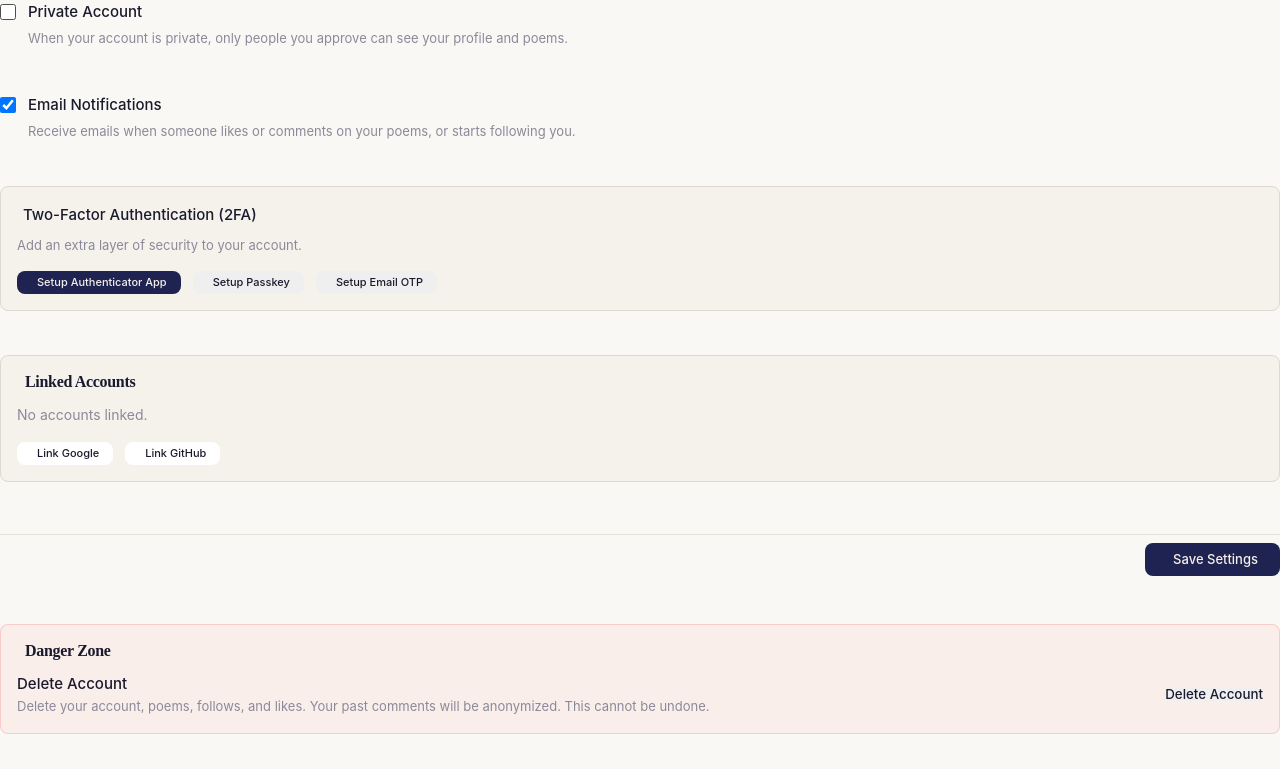
Test: AccountSettingsClient › shows error when deleteAccount fails
// Click Delete Account button to open modal
Click the button "Delete Account".
click(1214, 695)  # box [1165,688,1263,701]
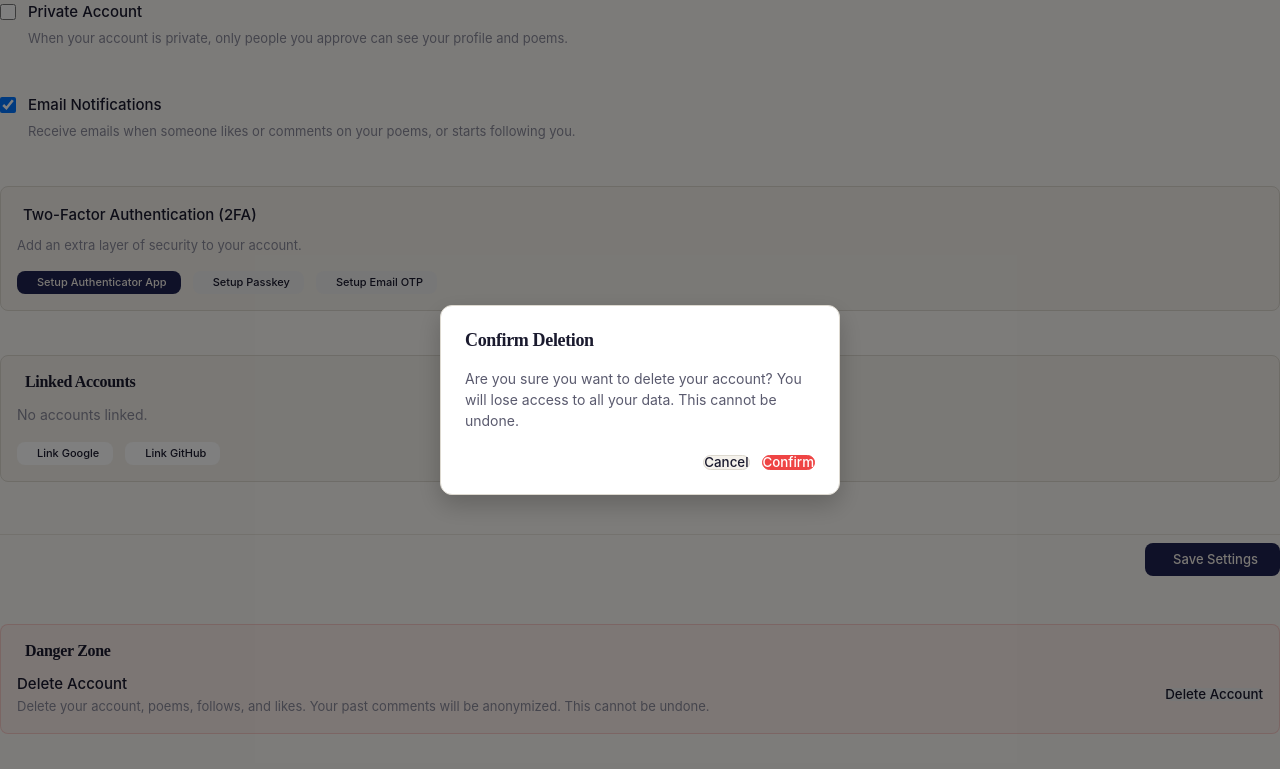
// Click Confirm button in the modal
Click the button "Confirm".
click(788, 462)  # box [762,455,815,470]
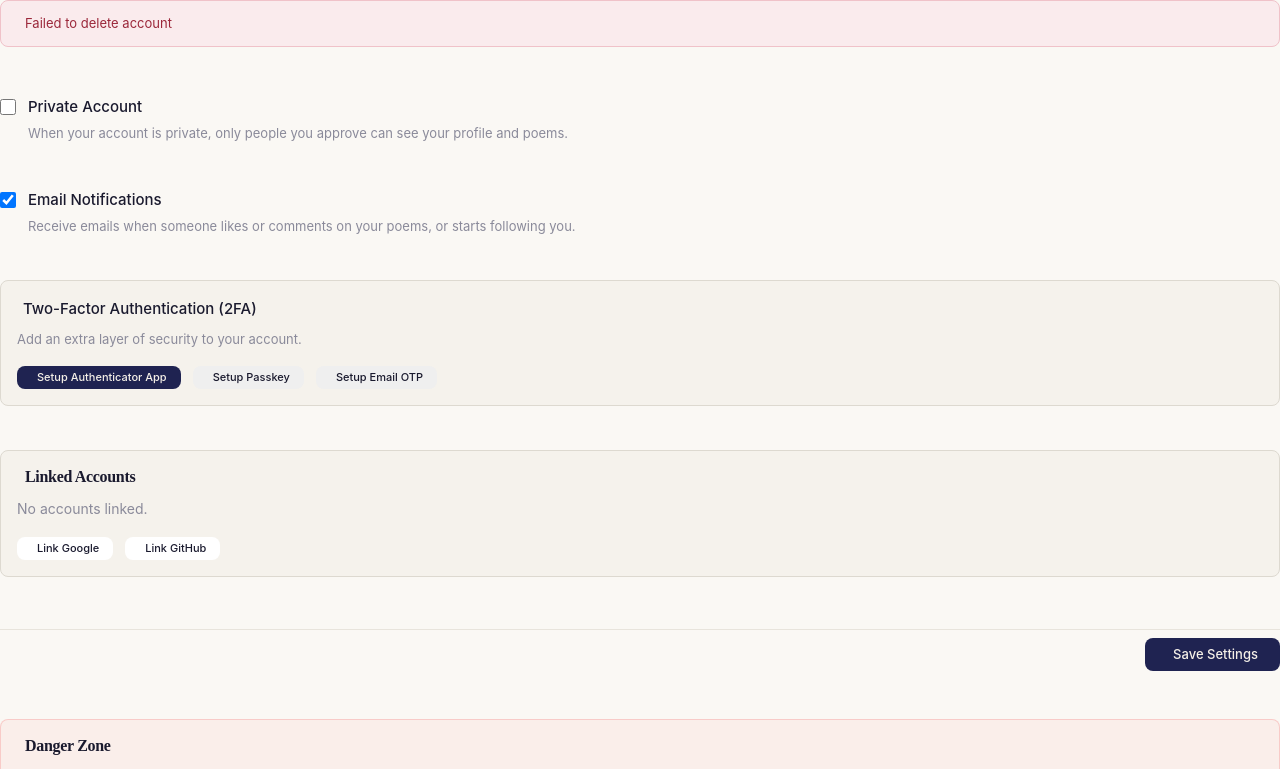
Expected: the text "Failed to delete account" is shown, [0,0,1279,47]
